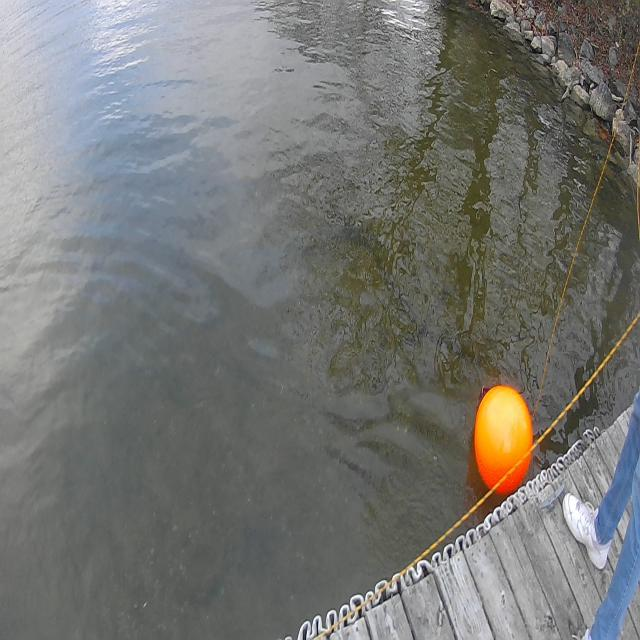Buoy: (473, 382, 534, 496)
